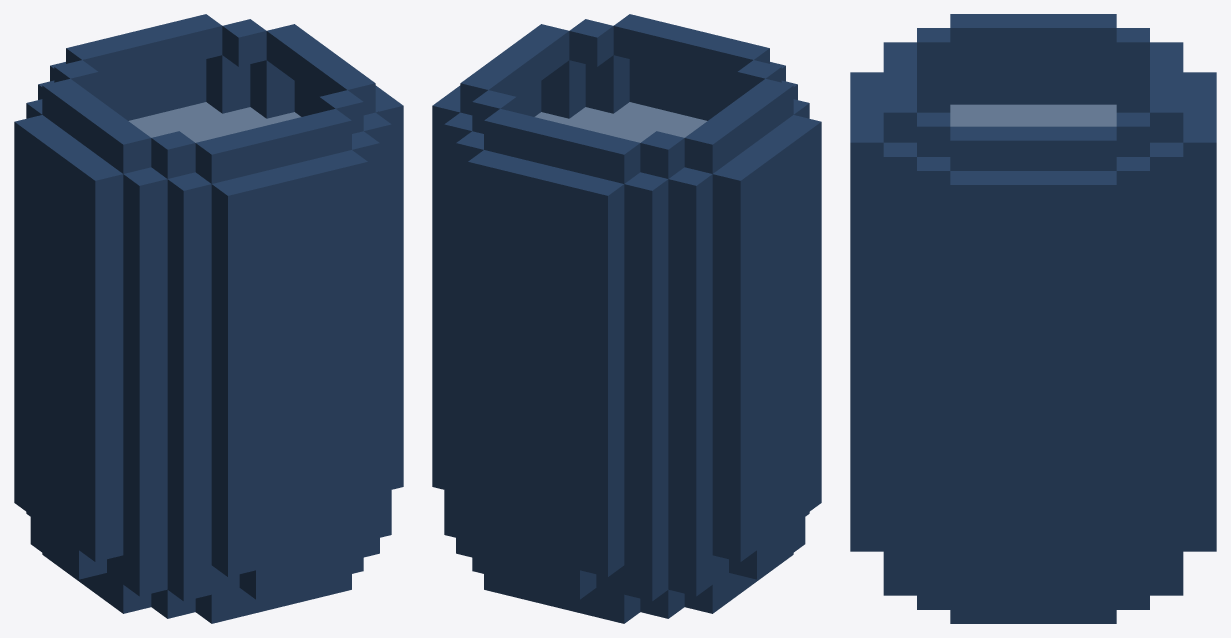
File: Camburão.fbx
3 views of the same model, side by side, from view 1: azimuth 30°, elevation 25°; view 2: azimuth 150°, elevation 25°; view 3: azimuth 270°, elevation 25° (orthographic). The views are drawn at different scales.
Visible parts, largest first — view 1: Butijão e Camburão-0; view 2: Butijão e Camburão-0; view 3: Butijão e Camburão-0.
Boxes of the visible parts, box(x1,y1,x2,y2) form: Butijão e Camburão-0: box(14, 14, 403, 623); Butijão e Camburão-0: box(432, 14, 821, 623); Butijão e Camburão-0: box(850, 14, 1216, 623).
Bounding box in the file's own units: 110 × 160 × 110.
